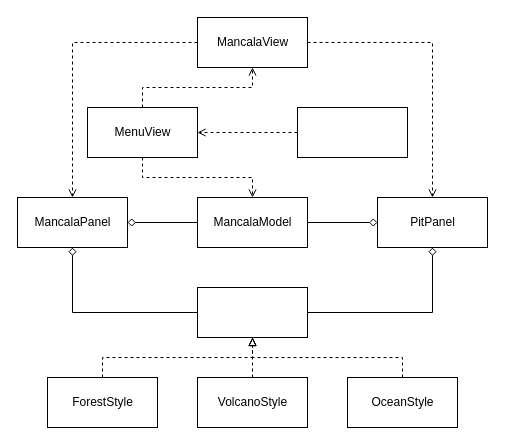
Some shapes in this 505 by 445 pixel diagram are drawn without their labels. The shapes that lost their labels are listed below. From the top down, each one's centre as x and y in pixels, then its label:
At point (352, 132): "MancalaTester".
At point (252, 312): "MancalaStyle".
